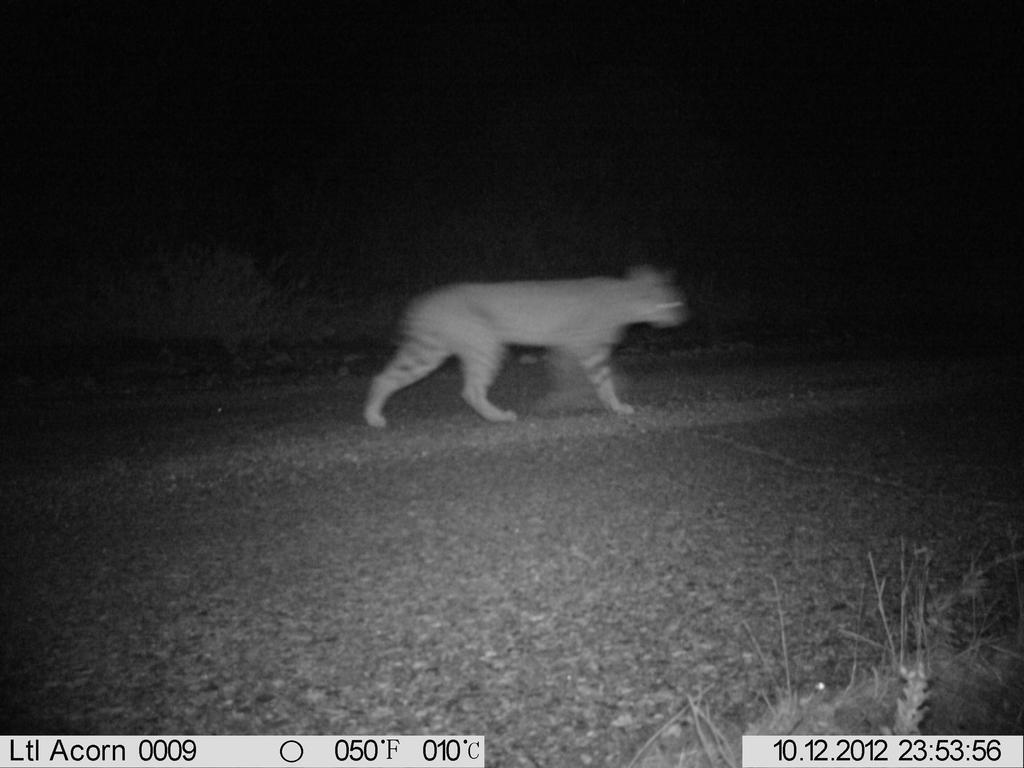bobcat: (356, 258, 697, 433)
